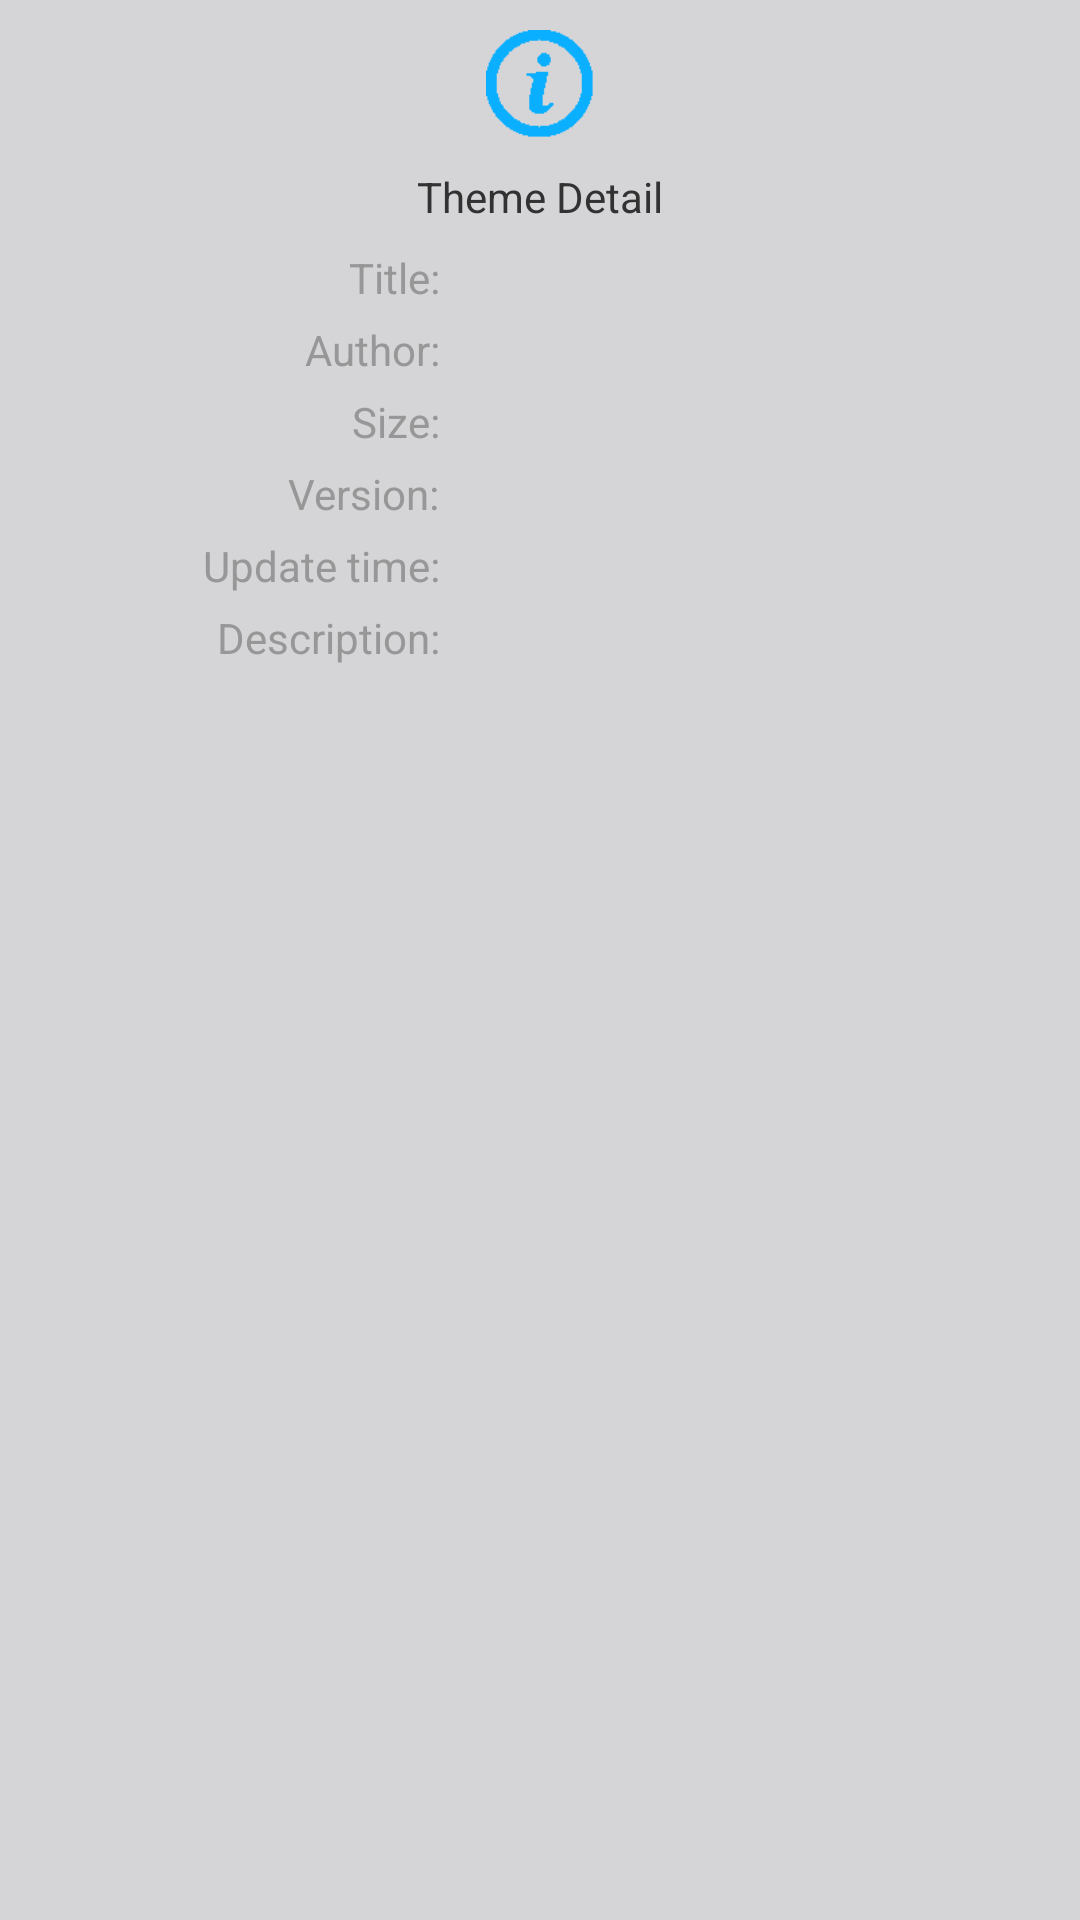

Point at icon controls on the screen. Image size 1080w x 1920h, points as [x,y].
product desc: [539,83]
